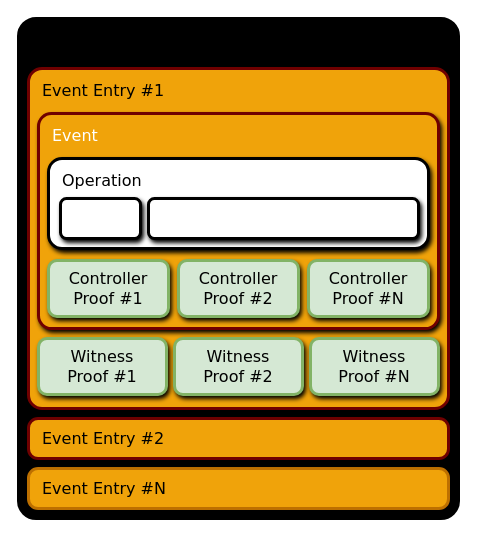
Some shapes in this 477 by 537 pixel diagram are drawn without their labels. Here are the shapes that lost their labels. From the top down, the centre of each, then its label:
At (101,219): "Type".
At (284,219): "Data".
